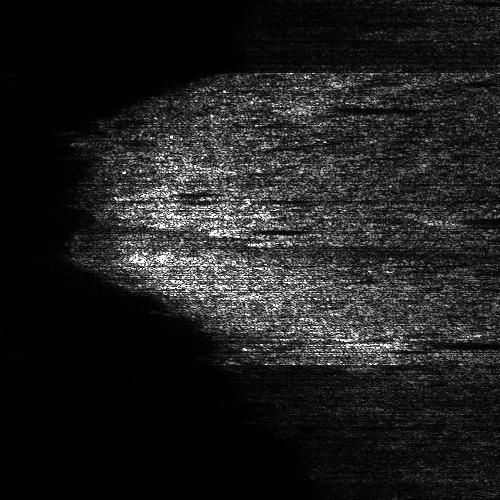rock: (416, 210, 499, 223), (330, 340, 423, 347), (280, 102, 343, 111), (214, 227, 267, 232)
shadow: (312, 102, 418, 111), (377, 340, 500, 347), (458, 210, 500, 223), (241, 227, 300, 232)
